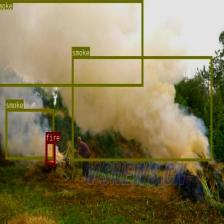fire: (45, 141, 55, 165)
smoke: (72, 56, 212, 161), (0, 0, 143, 86), (5, 109, 54, 159)
